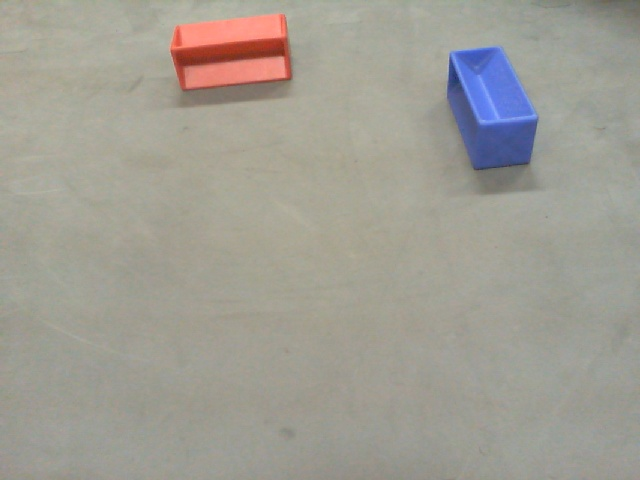BlueSample: (444, 43, 540, 175)
RedSample: (167, 11, 295, 98)
